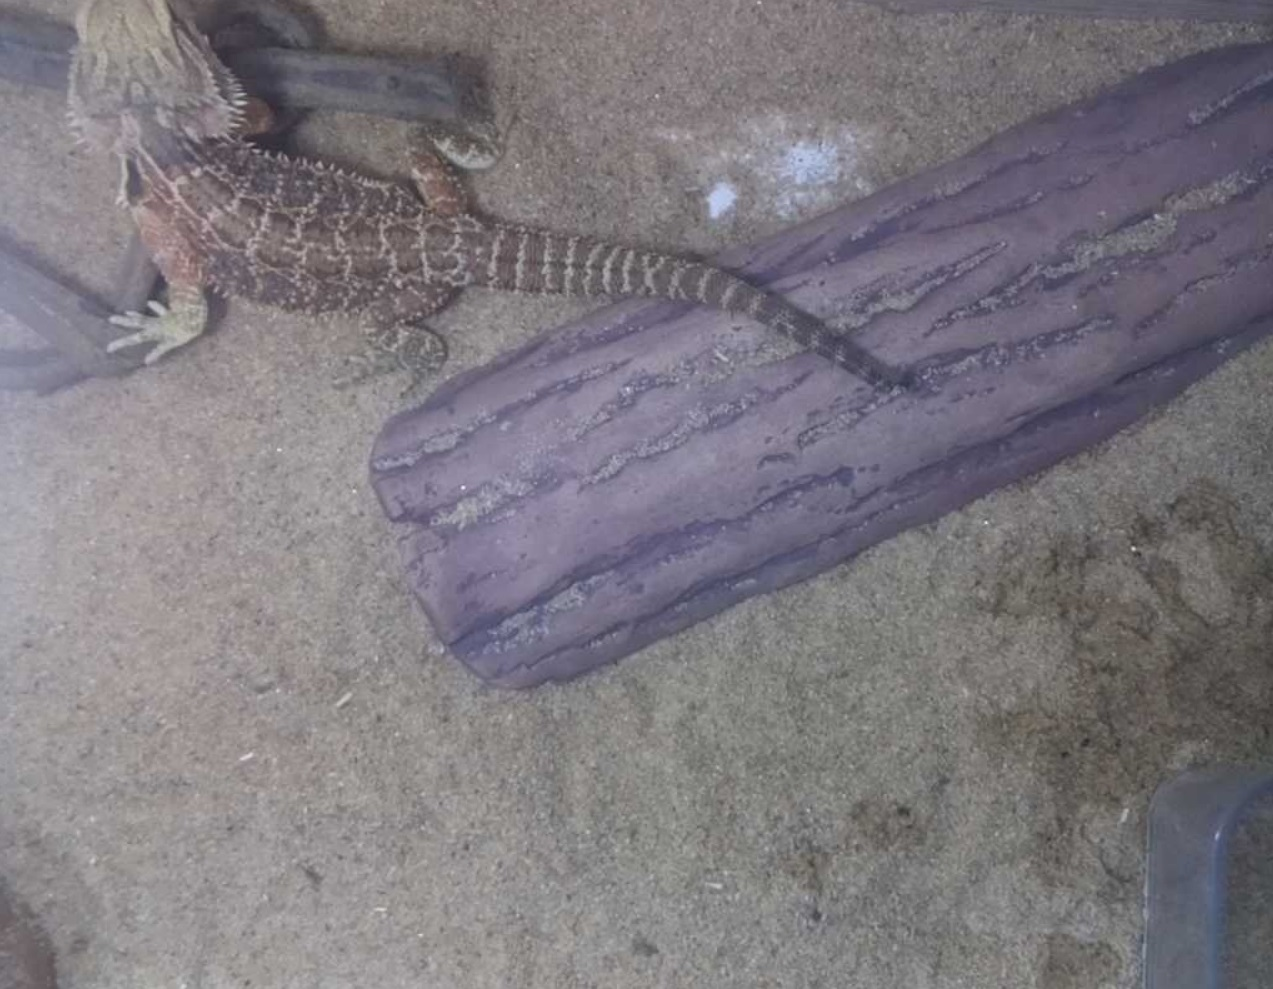bearded: (64, 1, 919, 404)
